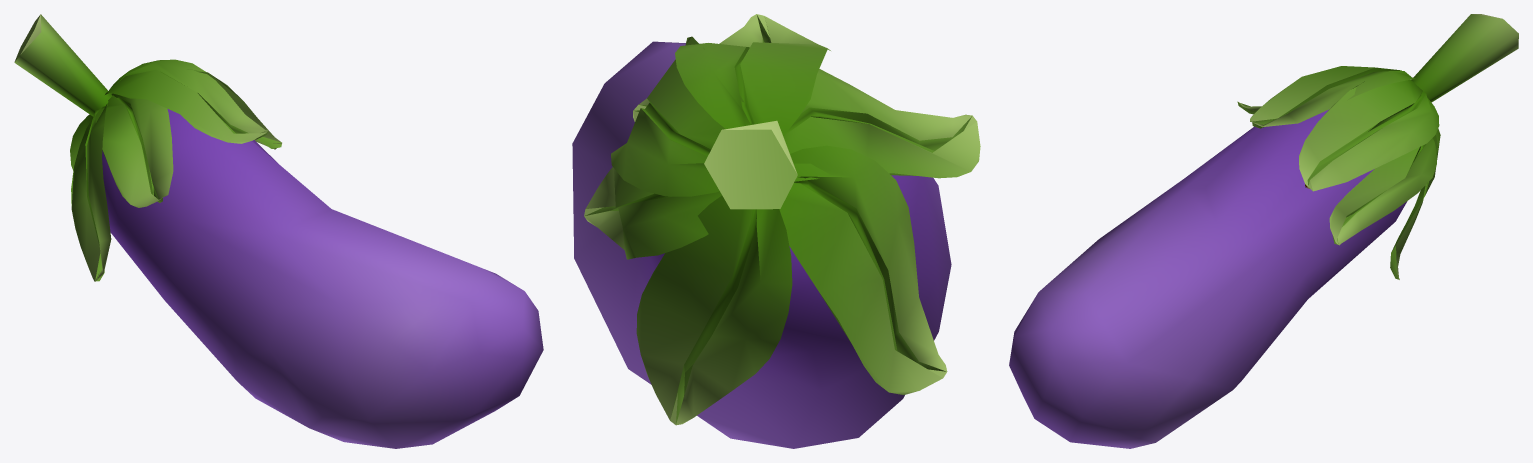
File: eggplant.glb
The picture shows the model from 3 angles, left to right: view 1: azimuth 30°, elevation 25°; view 2: azimuth 150°, elevation 25°; view 3: azimuth 270°, elevation 25°; orthographic projection. The views are drawn at different scales.
Visible parts, largest first — view 1: eggplant; view 2: eggplant; view 3: eggplant.
Boxes of the visible parts, <box> form: eggplant: <box>14,14,543,448</box>; eggplant: <box>572,14,980,448</box>; eggplant: <box>1009,14,1518,448</box>.
Size of the model in its own units: 0.4822 by 0.4866 by 0.6722.
1 material, 1 textured.
